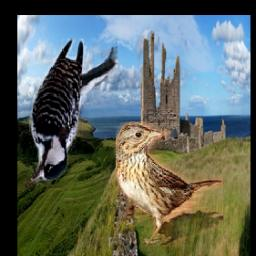Sparrow: (116, 122, 223, 248)
Woodpecker: (26, 40, 118, 187)
